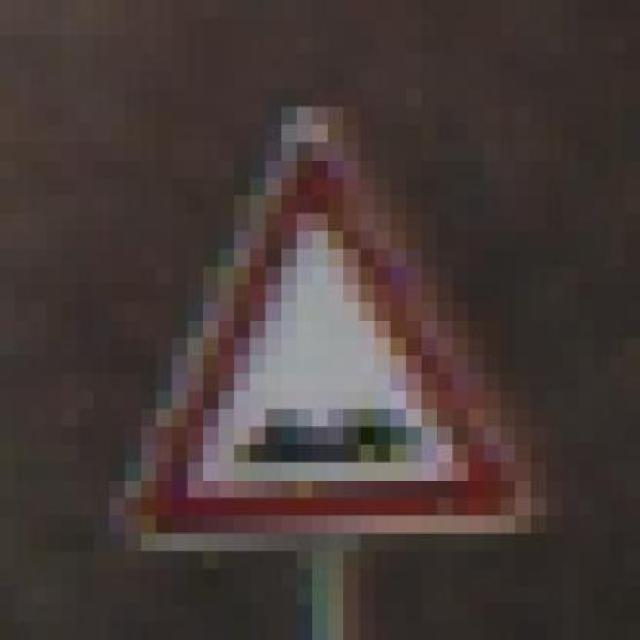Uneven Road: (106, 92, 559, 556)
